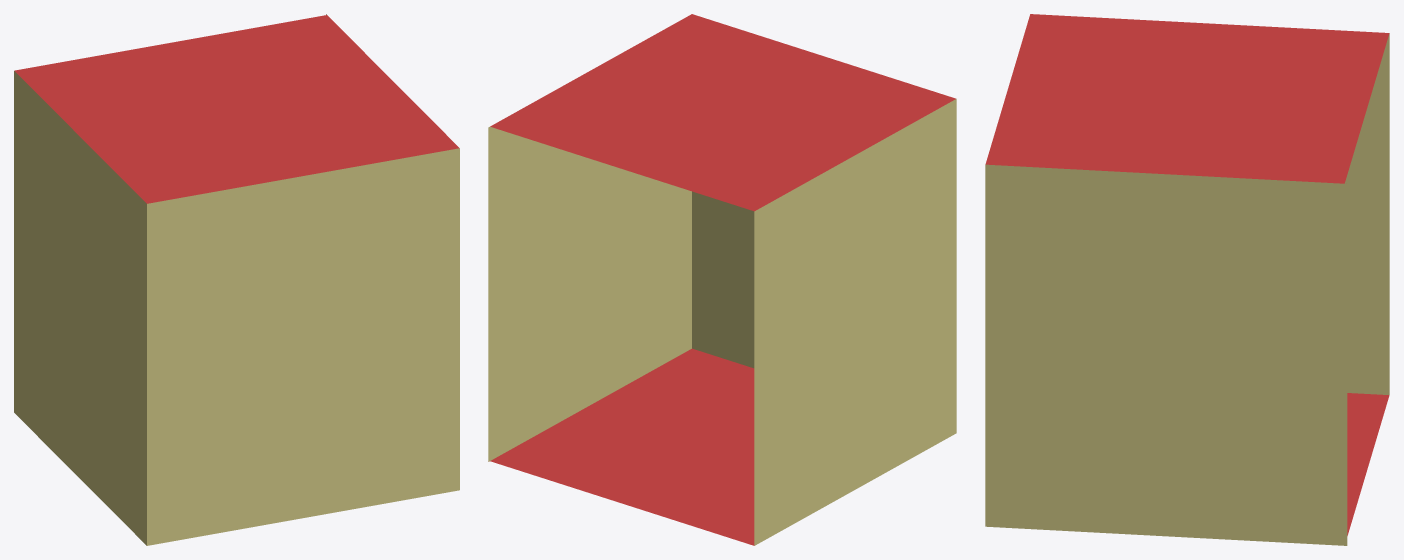
3 renders of one model, left to right at view 1: azimuth 30°, elevation 25°; view 2: azimuth 150°, elevation 25°; view 3: azimuth 270°, elevation 25°, orthographic. The views are drawn at different scales.
Size of the model in its own units: 5.44 by 5.47 by 5.41.
